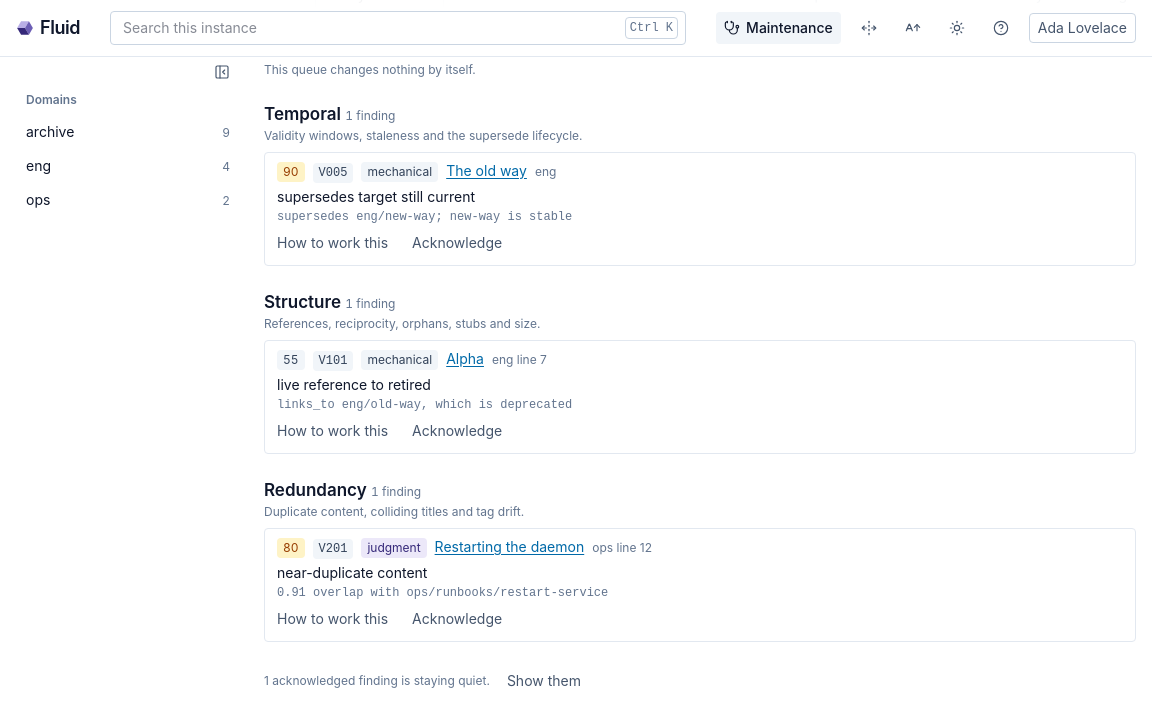
Scenario: the acknowledged findings › counts what is staying quiet, and shows it on request
This screenshot has width=1152, height=707.
(page scrolled)
Expected: the text "1 acknowledged finding is staying quiet." is shown, x1=264 y1=673 x2=490 y2=689
Click the button "Show them": click(544, 681) x1=498 y1=666 x2=590 y2=696
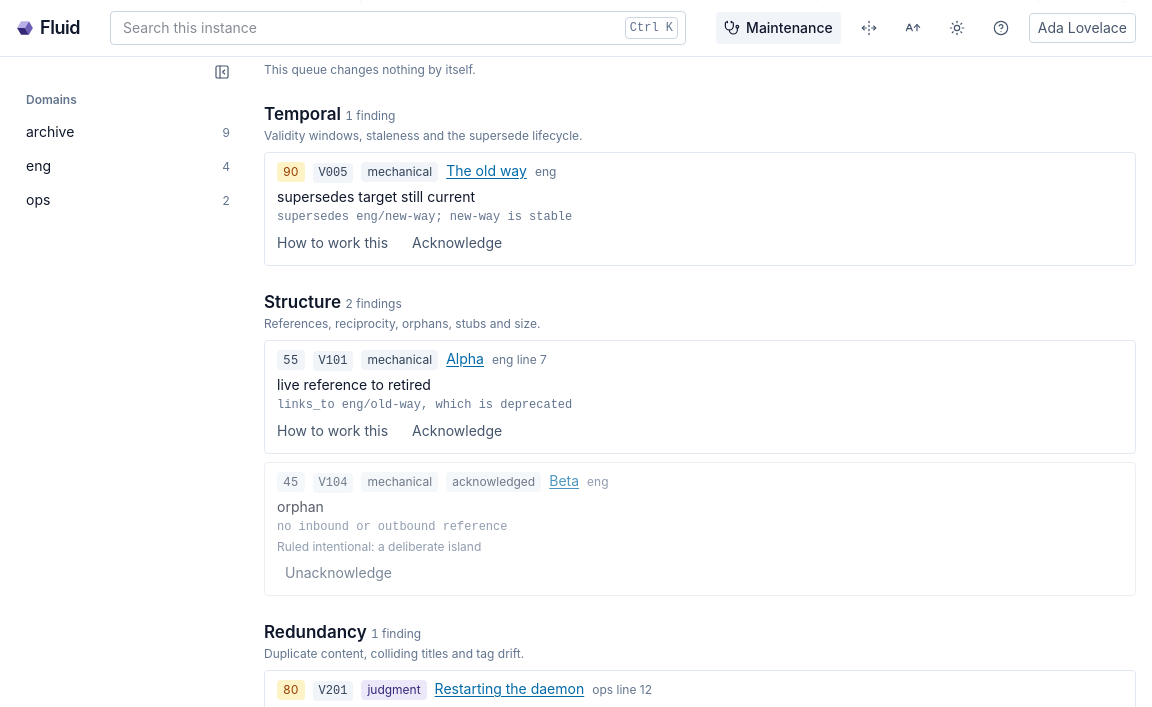
Expected: the text "42 engrams swept, 4 findings. Temporal 1, Structure 2, Redundancy 1." is shown, x1=264 y1=22 x2=664 y2=38
Expected: the list item "Beta" shows "a deliberate island", x1=277 y1=539 x2=481 y2=554
Expected: the button "Unacknowledge" is shown, x1=277 y1=559 x2=400 y2=587
